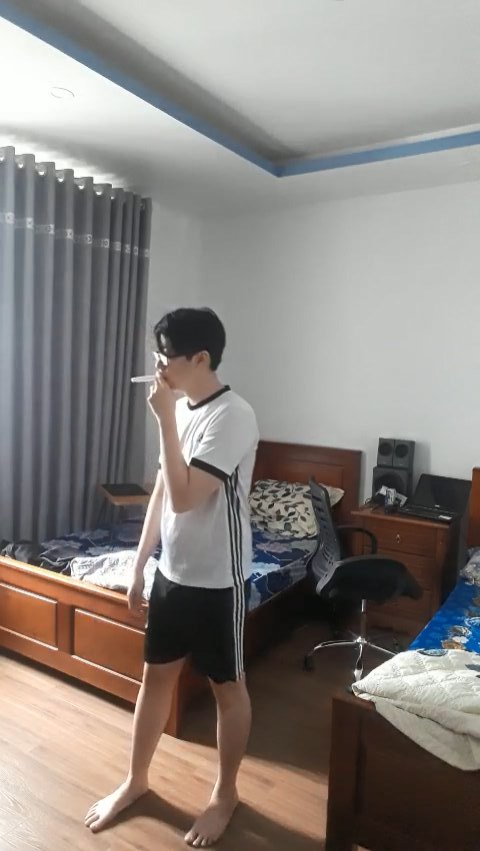cigarette: (129, 372, 160, 384)
person: (111, 293, 288, 851)
